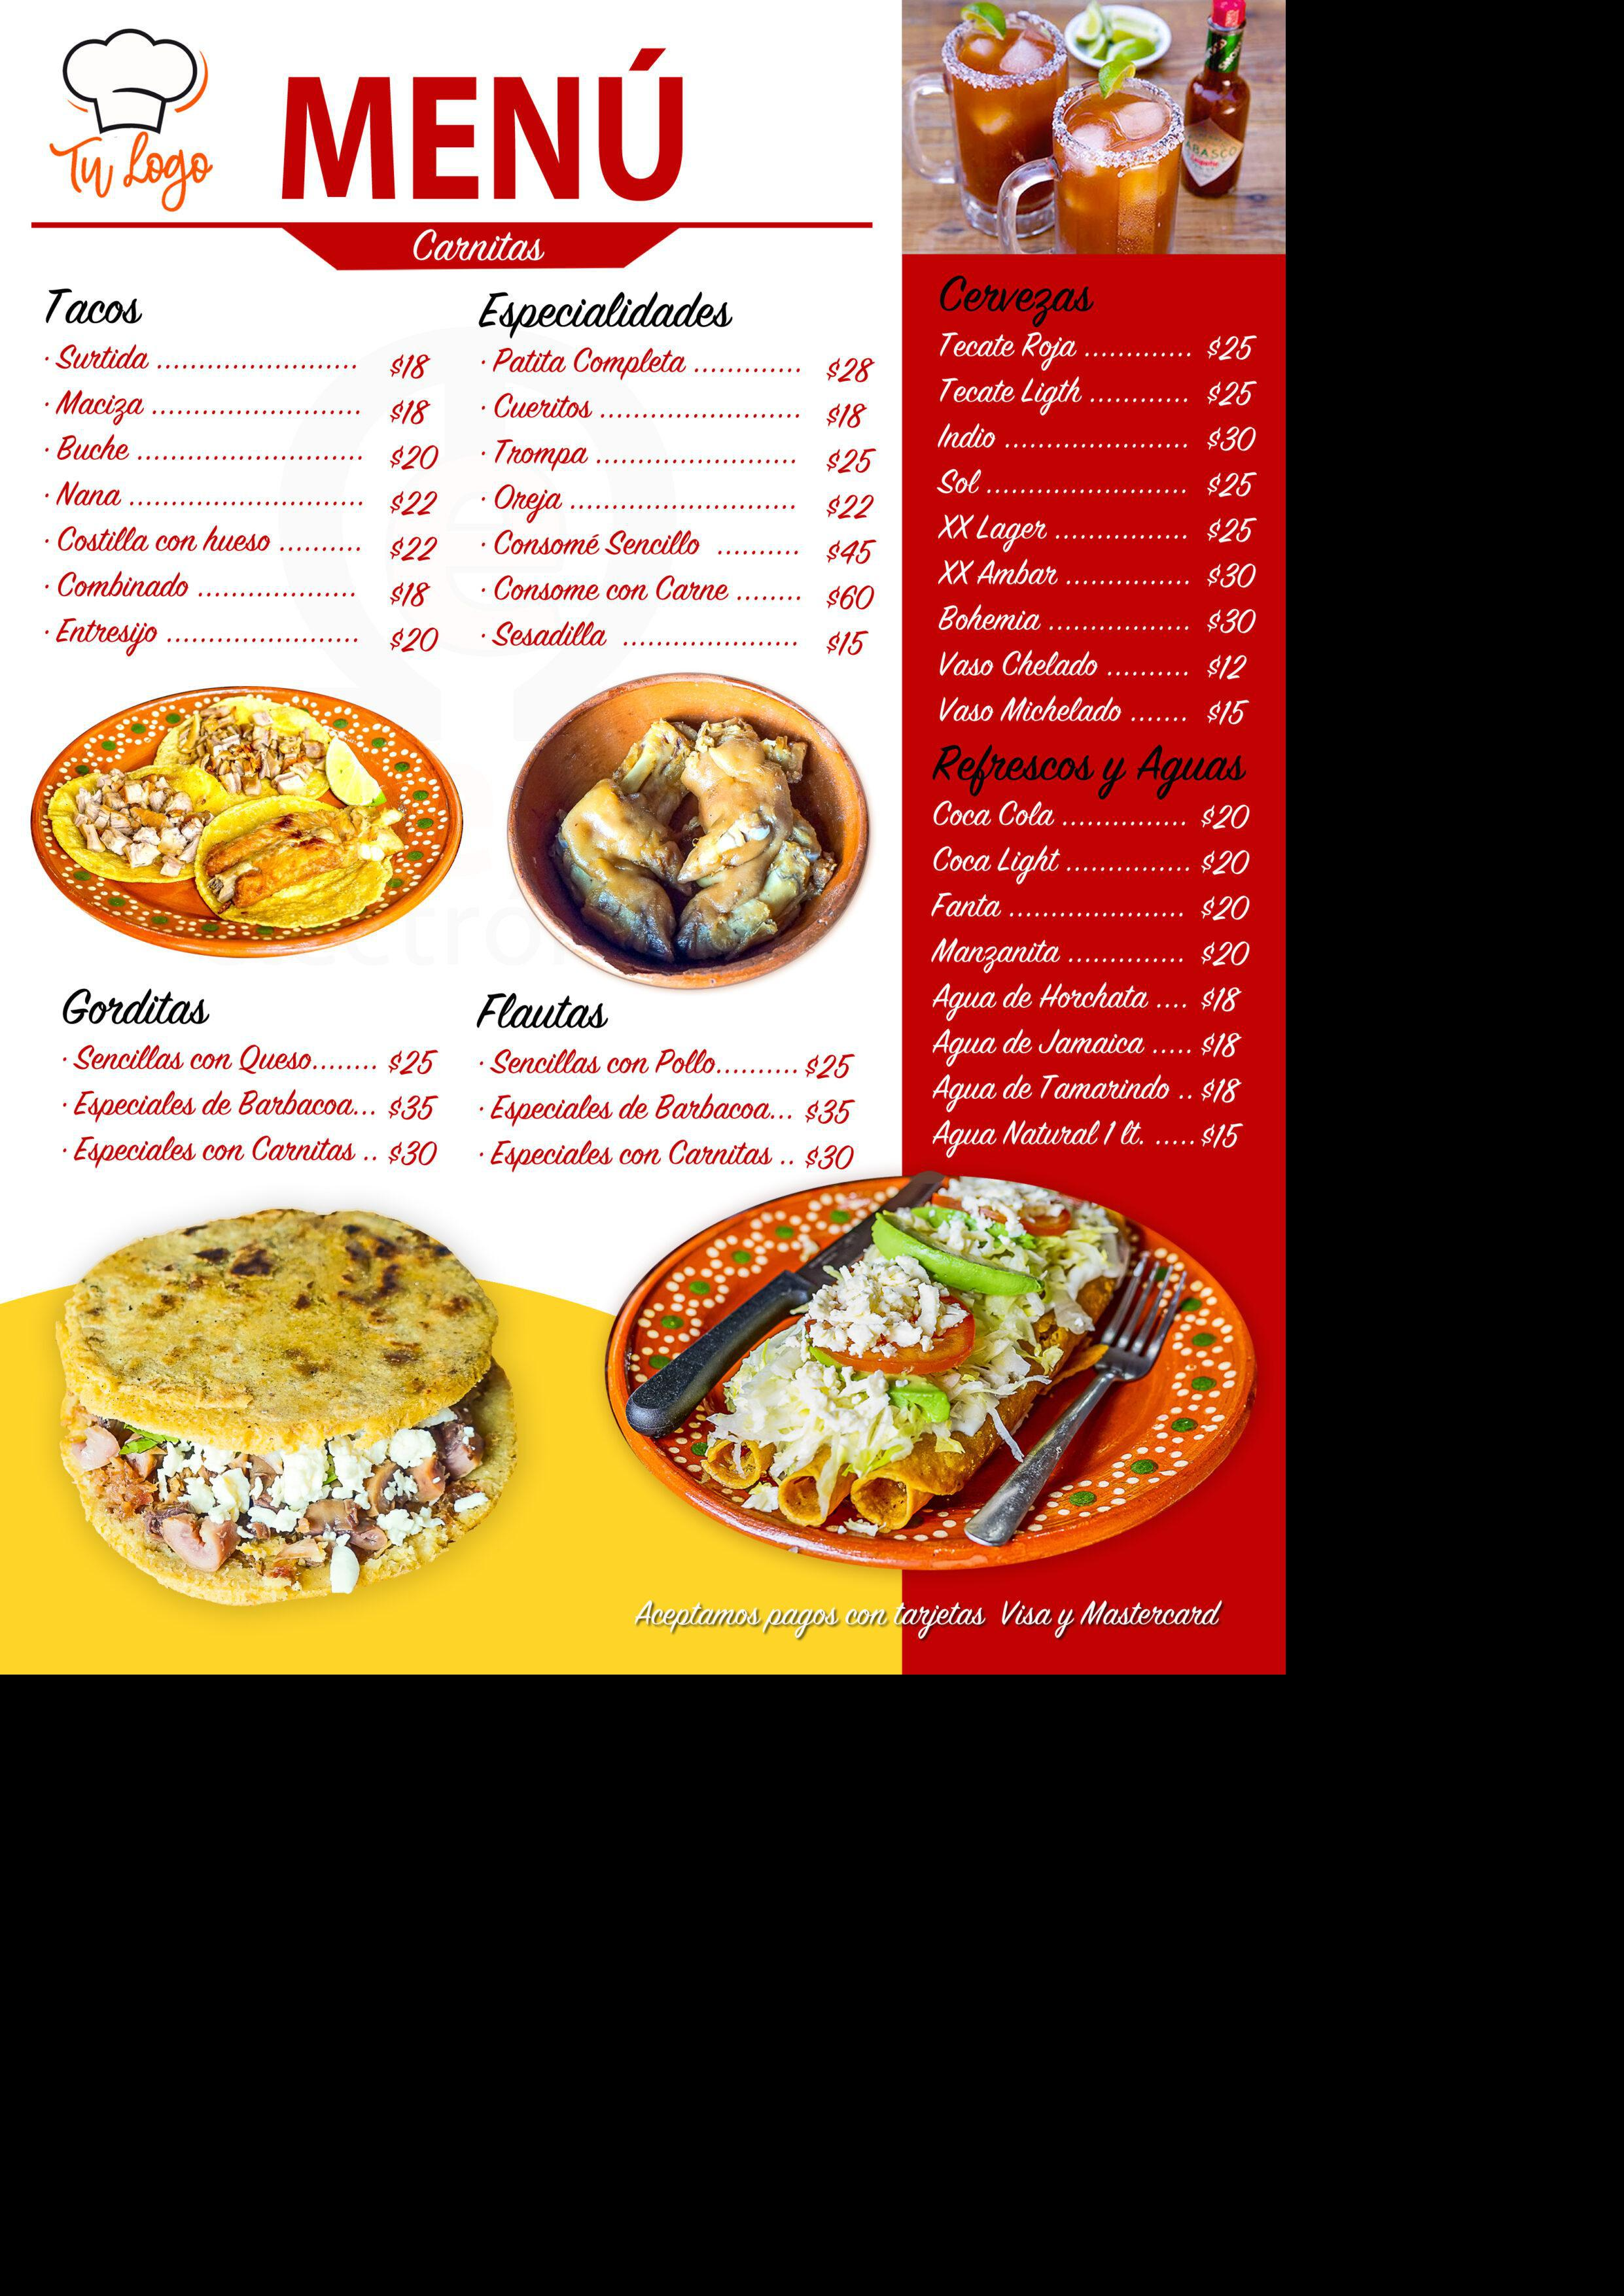item: (496, 339, 875, 388), (492, 613, 870, 662), (490, 386, 872, 434), (490, 525, 881, 571), (54, 429, 443, 474), (494, 480, 881, 525), (58, 520, 445, 566), (54, 385, 436, 430), (489, 434, 882, 478), (56, 567, 434, 613), (490, 571, 879, 615), (56, 341, 436, 385), (54, 478, 441, 520), (490, 1042, 858, 1086), (53, 615, 441, 655), (72, 1038, 443, 1080), (930, 928, 1253, 973), (937, 552, 1258, 597), (70, 1133, 446, 1172), (933, 416, 1262, 460), (70, 1087, 441, 1126), (930, 325, 1269, 367), (935, 504, 1258, 548), (489, 1137, 856, 1175), (932, 838, 1251, 882), (928, 885, 1258, 928), (937, 372, 1265, 415), (489, 1093, 859, 1130), (928, 975, 1246, 1017), (935, 689, 1251, 731), (933, 1116, 1248, 1158), (930, 1068, 1248, 1108), (935, 645, 1251, 685), (935, 462, 1264, 501), (932, 798, 1253, 834), (937, 604, 1257, 641), (932, 1026, 1250, 1063)
price: (801, 1140, 858, 1173), (388, 1089, 441, 1124), (1199, 891, 1255, 922), (1202, 515, 1260, 545), (1200, 845, 1251, 878), (1200, 936, 1251, 970), (823, 444, 879, 474), (387, 441, 439, 473), (826, 536, 875, 569), (1202, 379, 1260, 408), (387, 1045, 438, 1077), (387, 622, 438, 653), (1199, 1117, 1246, 1151), (1202, 471, 1258, 499), (1206, 425, 1258, 455), (824, 490, 877, 520), (1204, 560, 1257, 590), (1200, 801, 1250, 833), (387, 534, 438, 564), (823, 399, 870, 430), (805, 1096, 858, 1124), (1207, 334, 1260, 362), (388, 395, 434, 427), (805, 1052, 856, 1080), (824, 583, 875, 611), (828, 357, 875, 386), (390, 487, 438, 516), (387, 348, 431, 379), (388, 1138, 438, 1166), (1199, 982, 1244, 1012), (1199, 1075, 1244, 1105), (1204, 608, 1255, 634), (824, 629, 872, 657), (1204, 697, 1250, 726), (1202, 653, 1246, 682), (1200, 1029, 1244, 1058), (387, 580, 432, 606)
tittle: (933, 1070, 1172, 1114), (72, 1133, 357, 1165), (490, 1094, 772, 1126), (72, 1089, 357, 1119), (932, 982, 1151, 1021), (490, 1140, 773, 1170), (933, 1119, 1146, 1158), (490, 1045, 715, 1080), (932, 1026, 1149, 1061), (492, 574, 731, 606), (490, 527, 705, 562), (74, 1042, 311, 1073), (490, 344, 689, 381), (58, 523, 272, 557), (937, 694, 1125, 727), (937, 646, 1102, 680), (937, 376, 1086, 413), (930, 935, 1065, 975), (939, 330, 1077, 369), (933, 843, 1063, 880), (937, 511, 1051, 550), (58, 567, 190, 601), (939, 560, 1062, 594), (56, 617, 158, 655), (935, 799, 1056, 831), (490, 618, 612, 648), (492, 390, 594, 422), (54, 388, 146, 423), (56, 341, 151, 374), (939, 604, 1044, 634), (494, 437, 592, 469), (496, 483, 566, 516), (933, 891, 1000, 924), (54, 480, 123, 509), (56, 436, 134, 462), (935, 422, 998, 451), (935, 467, 986, 495)
